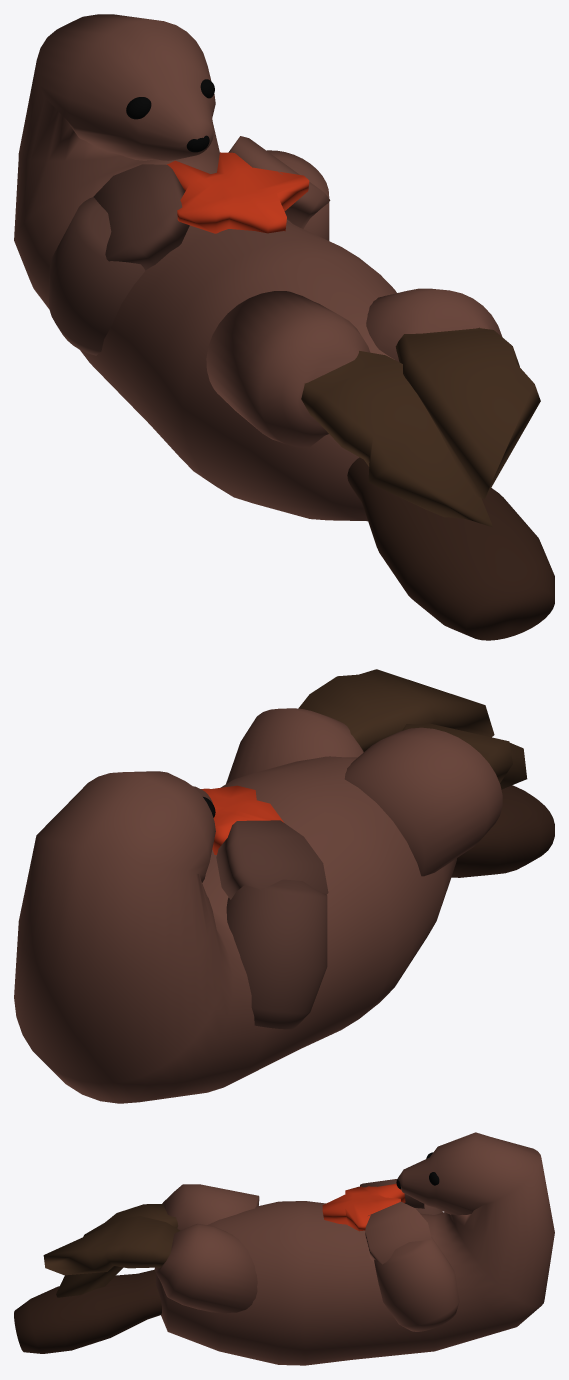
File: oscar.fbx
3 views of the same model, one above another, from view 1: azimuth 30°, elevation 25°; view 2: azimuth 150°, elevation 25°; view 3: azimuth 270°, elevation 25° (orthographic). The views are drawn at different scales.
Parts seen in each view (by area): view 1: Otter Bod, Tail, Left Leg, Left Foot, Right Foot, Arm.001, Star!!!!, Paw.001, Right Leg, Paw, Arm; view 2: Otter Bod, Left Leg, Arm.001, Right Foot, Paw.001, Right Leg, Tail, Star!!!!, Left Foot; view 3: Otter Bod, Tail, Right Leg, Arm, Right Foot, Left Leg, Paw, Star!!!!, Left Foot, Paw.001.
Boxes of the visible parts, x1=… form: Otter Bod: x1=14, y1=14, x2=396, y2=521; Tail: x1=347, y1=457, x2=554, y2=640; Left Leg: x1=206, y1=291, x2=370, y2=447; Left Foot: x1=301, y1=351, x2=492, y2=527; Right Foot: x1=395, y1=327, x2=540, y2=499; Arm.001: x1=49, y1=197, x2=145, y2=355; Star!!!!: x1=167, y1=152, x2=309, y2=233; Paw.001: x1=93, y1=164, x2=189, y2=270; Right Leg: x1=366, y1=288, x2=502, y2=362; Paw: x1=228, y1=136, x2=330, y2=228; Arm: x1=267, y1=150, x2=329, y2=240; Otter Bod: x1=14, y1=756, x2=456, y2=1103; Left Leg: x1=344, y1=727, x2=502, y2=876; Arm.001: x1=226, y1=879, x2=327, y2=1029; Right Foot: x1=298, y1=669, x2=494, y2=751; Paw.001: x1=216, y1=820, x2=328, y2=899; Right Leg: x1=226, y1=708, x2=363, y2=783; Tail: x1=451, y1=785, x2=554, y2=877; Star!!!!: x1=201, y1=785, x2=283, y2=854; Left Foot: x1=402, y1=723, x2=527, y2=789; Otter Bod: x1=156, y1=1132, x2=554, y2=1365; Tail: x1=14, y1=1269, x2=161, y2=1353; Right Leg: x1=154, y1=1223, x2=257, y2=1313; Arm: x1=374, y1=1237, x2=459, y2=1331; Right Foot: x1=43, y1=1216, x2=180, y2=1275; Left Leg: x1=162, y1=1184, x2=259, y2=1230; Paw: x1=365, y1=1201, x2=431, y2=1264; Star!!!!: x1=322, y1=1183, x2=405, y2=1231; Left Foot: x1=56, y1=1203, x2=178, y2=1297; Paw.001: x1=360, y1=1179, x2=424, y2=1208.
Bounding box in the file's own units: 139 × 180 × 398.
